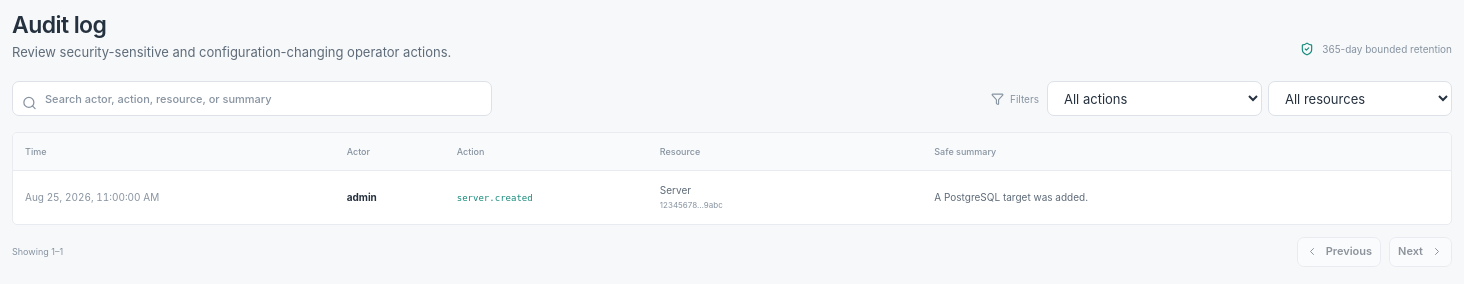
renders safe audit history and filters by action
Expected: the text "server.created" is shown, left=457, top=193, right=533, bottom=203
Expected: the text "A PostgreSQL target was added." is shown, left=922, top=171, right=1451, bottom=224
Select "Failed logins" in the dropdown named "Audit action" at x=1154, y=99, box left=1047, top=81, right=1262, bottom=116
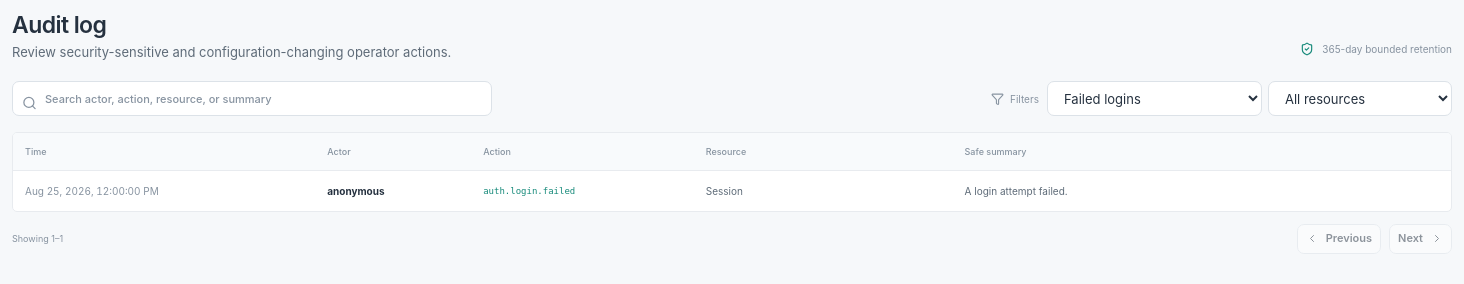
Expected: the text "auth.login.failed" is shown, left=483, top=186, right=575, bottom=196
Expected: the text "anonymous" is shown, left=327, top=185, right=385, bottom=197
